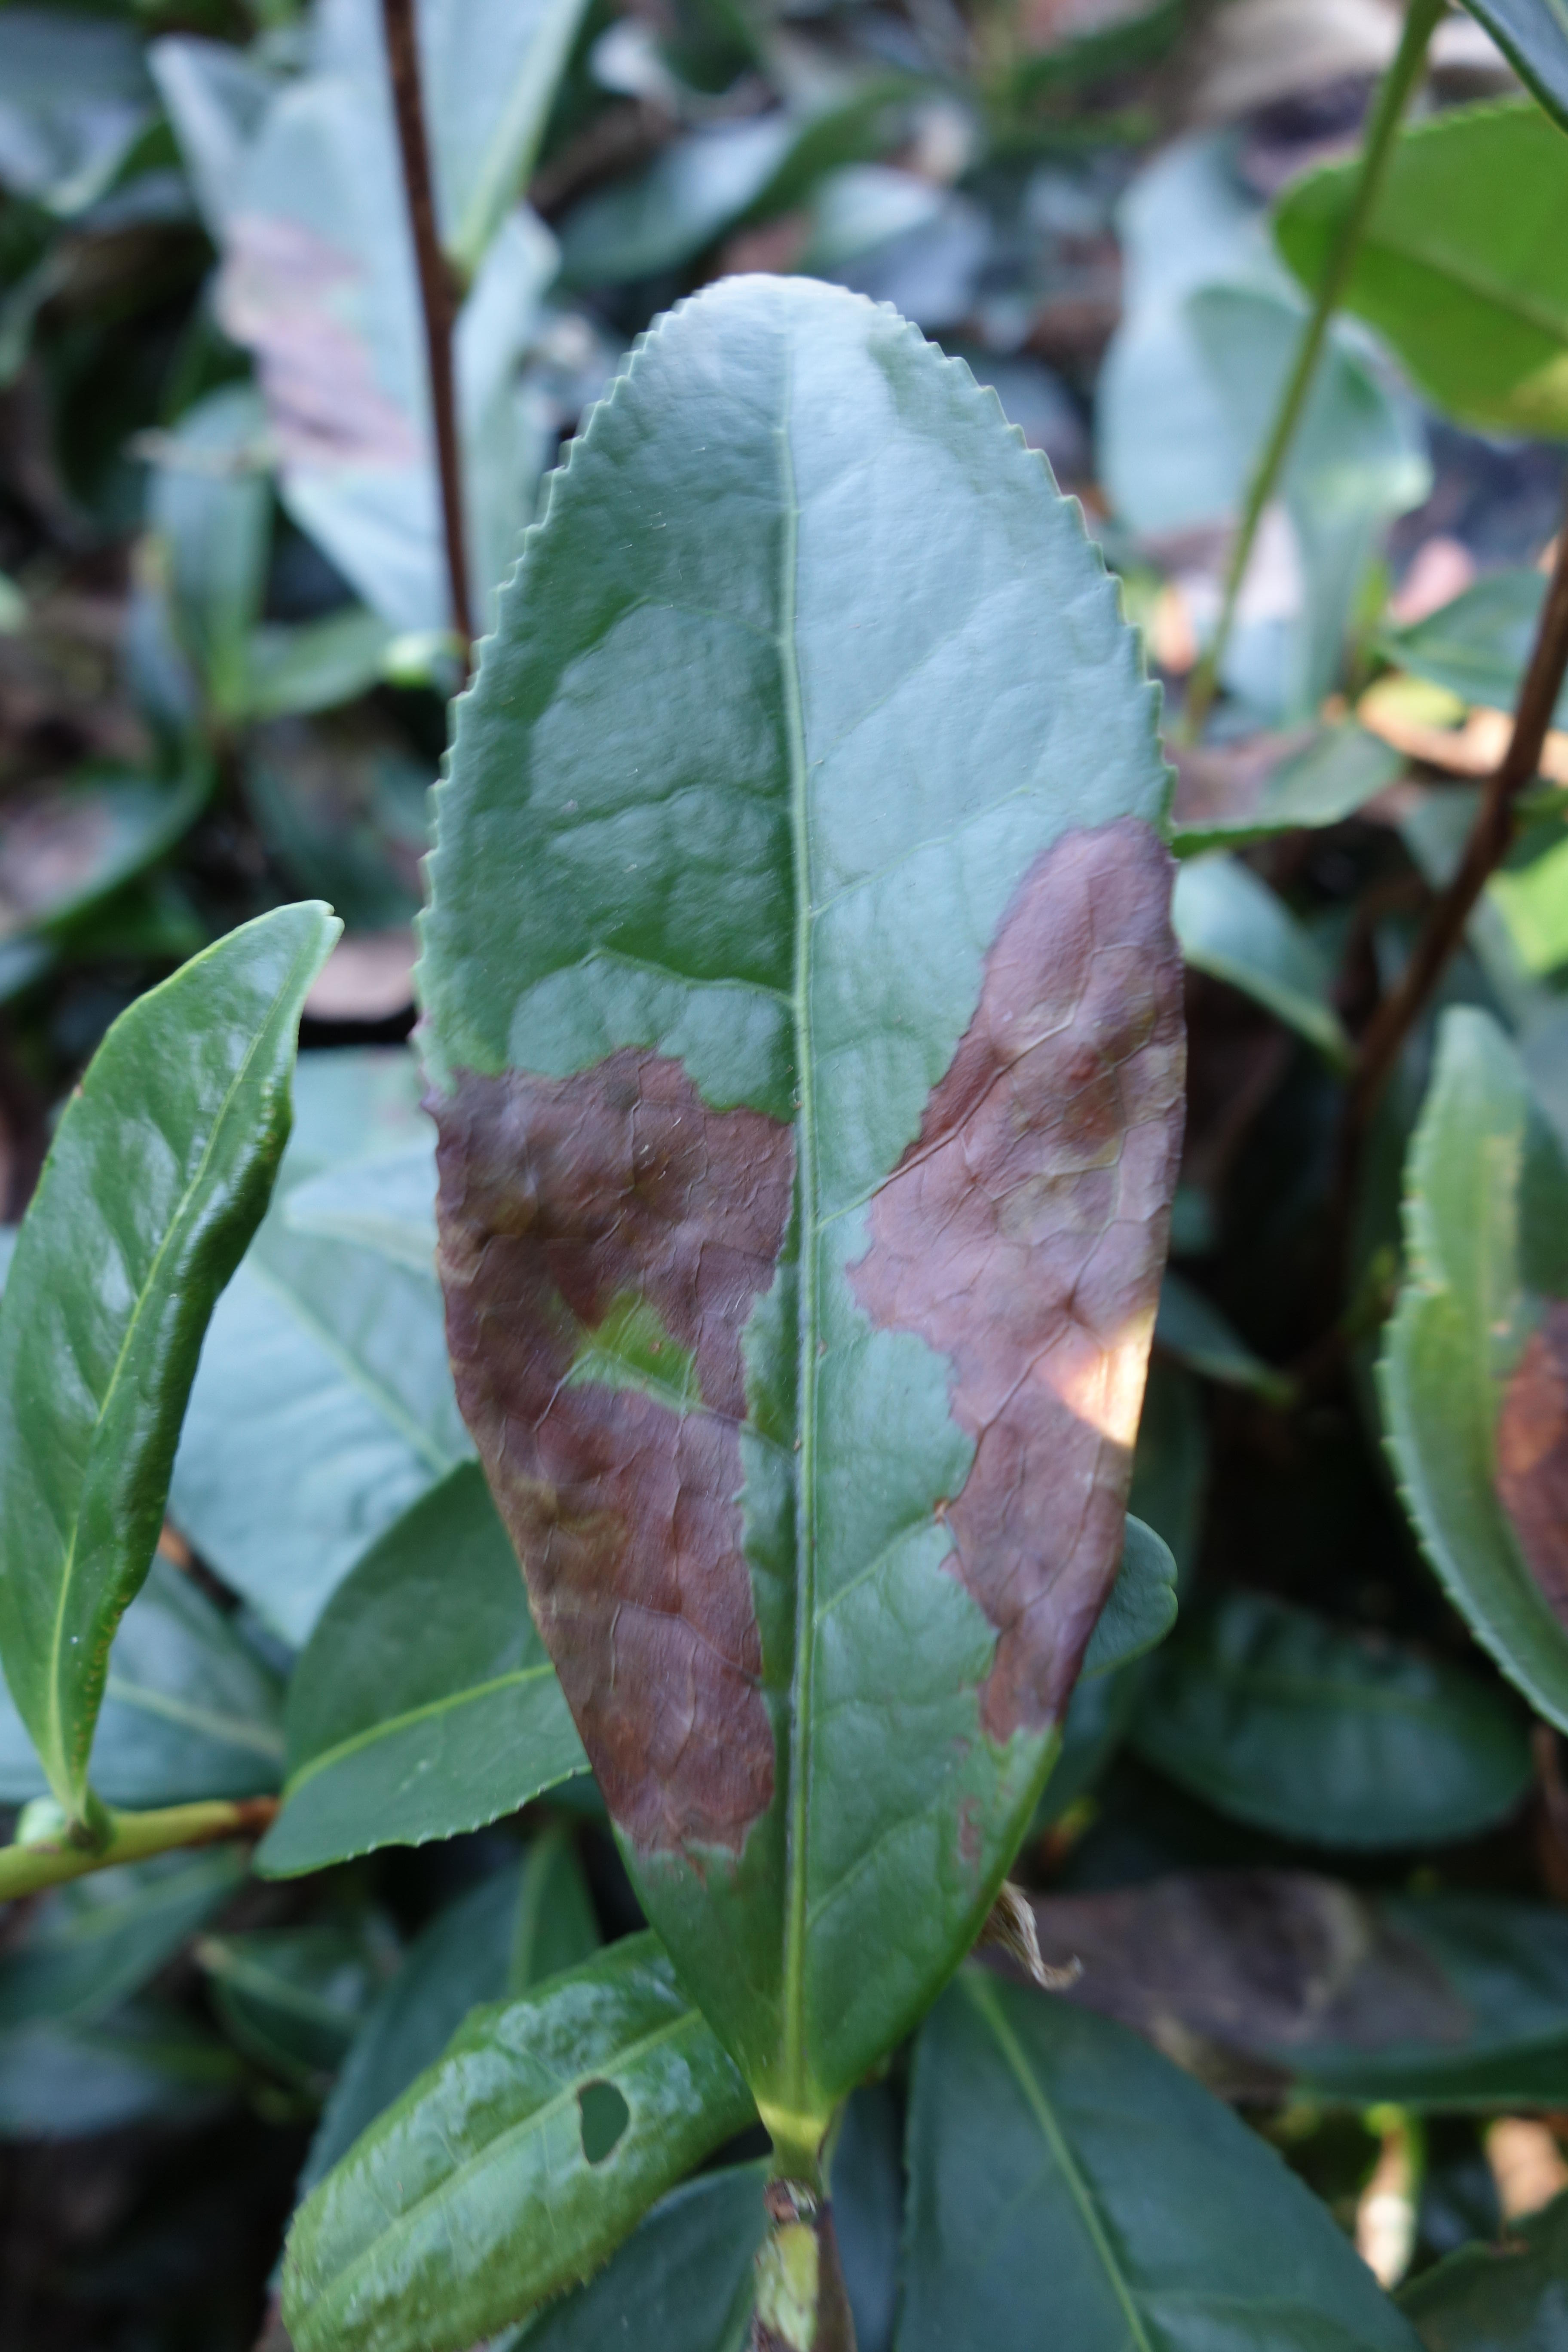chihuo_low: (273, 1935, 688, 2347)
healthy: (5, 898, 346, 1815)
tanju_high: (402, 266, 1195, 2149)
